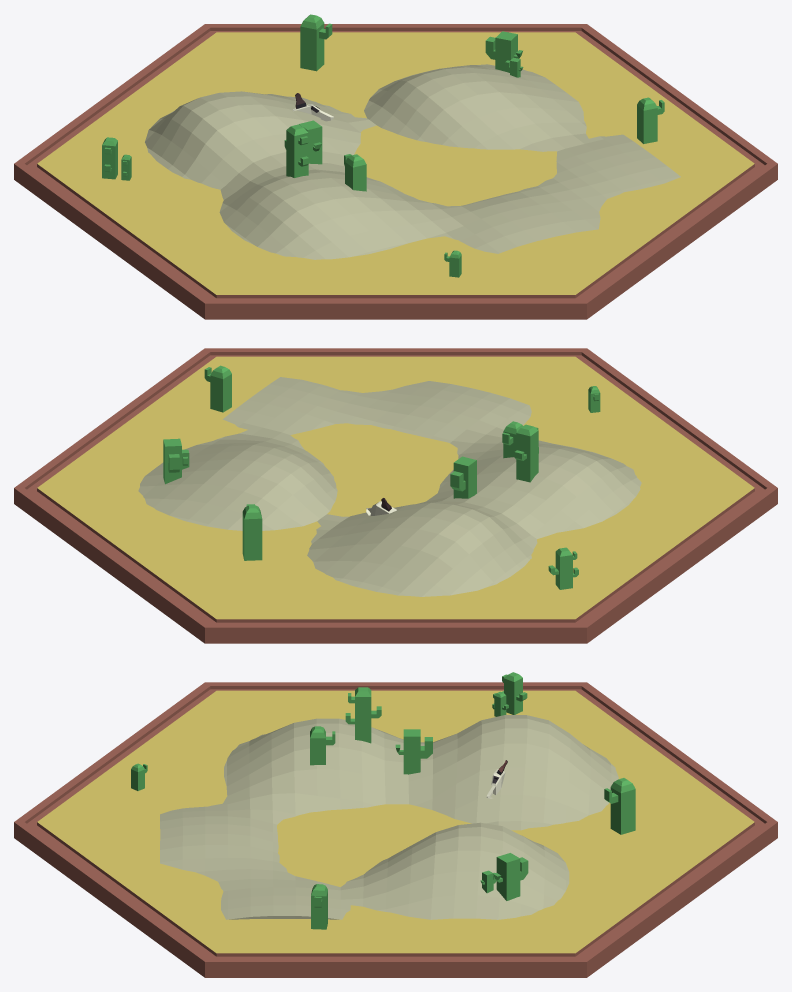
The model's file is Hexagon_Sand.glb.
3 renders of one model, top to bottom at view 1: azimuth 30°, elevation 25°; view 2: azimuth 150°, elevation 25°; view 3: azimuth 270°, elevation 25°, orthographic.
Visible parts, largest first — view 1: Circle, Plane, Cube.004, Cube.001, Cube.003, Cube.005, Cube.002, Cube, Cube.006; view 2: Circle, Plane, Cube.001, Cube.004, Cube.003, Cube, Cube.006, Cube.005; view 3: Circle, Plane, Cube.004, Cube.005, Cube.001, Cube, Cube.006, Cube.003, Cube.002.
Boxes of the visible parts, left/top/right/bottom form: Circle: left=14, top=24, right=777, bottom=319; Plane: left=145, top=64, right=680, bottom=259; Cube.004: left=300, top=14, right=332, bottom=71; Cube.001: left=284, top=124, right=308, bottom=177; Cube.003: left=637, top=97, right=664, bottom=143; Cube.005: left=485, top=31, right=522, bottom=72; Cube.002: left=344, top=154, right=366, bottom=191; Cube: left=299, top=120, right=322, bottom=164; Cube.006: left=102, top=137, right=117, bottom=179; Circle: left=14, top=348, right=777, bottom=643; Plane: left=138, top=377, right=641, bottom=596; Cube.001: left=514, top=424, right=538, bottom=482; Cube.004: left=242, top=504, right=262, bottom=560; Cube.003: left=204, top=365, right=231, bottom=412; Cube: left=450, top=456, right=476, bottom=498; Cube.006: left=548, top=547, right=578, bottom=589; Cube.005: left=163, top=438, right=181, bottom=484; Circle: left=14, top=682, right=777, bottom=977; Plane: left=160, top=715, right=618, bottom=919; Cube.004: left=604, top=778, right=635, bottom=834; Cube.005: left=493, top=853, right=528, bottom=900; Cube.001: left=345, top=687, right=381, bottom=743; Cube: left=395, top=729, right=432, bottom=774; Cube.006: left=501, top=672, right=527, bottom=714; Cube.003: left=311, top=884, right=327, bottom=929; Cube.002: left=310, top=726, right=335, bottom=765.
Bounding box in the file's own units: 30.17 × 4.72 × 34.84.
Materials: 1 (1 with a texture image).
